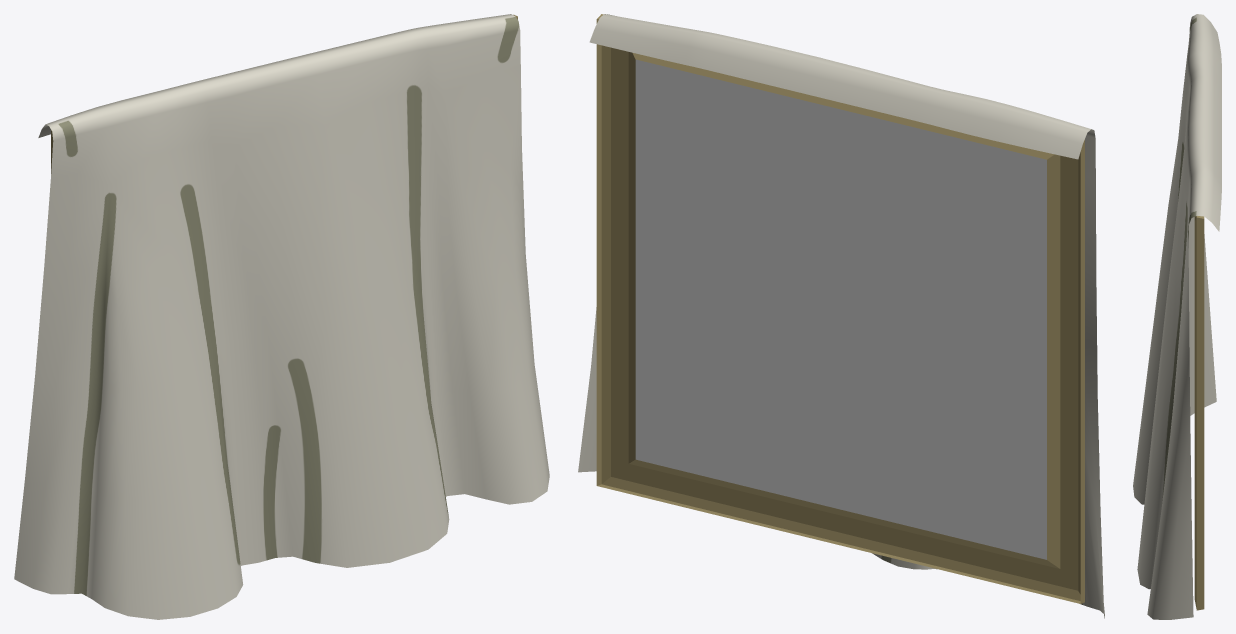
File: frame_achievement_covered.gltf
3 renders of one model, left to right at view 1: azimuth 30°, elevation 25°; view 2: azimuth 150°, elevation 25°; view 3: azimuth 270°, elevation 25°, orthographic. The views are drawn at different scales.
Visible parts, largest first — view 1: Plane.010; view 2: Plane.009, Plane.010; view 3: Plane.010, Plane.009.
Boxes of the visible parts, x1,y1,x2,y2 form: Plane.010: [14, 14, 549, 619]; Plane.009: [596, 14, 1084, 603]; Plane.010: [578, 14, 1104, 618]; Plane.010: [1133, 14, 1221, 619]; Plane.009: [1194, 216, 1204, 610].
Bounding box in the file's own units: 2.6 × 2.38 × 0.4445.
Materials: 3 (1 with a texture image).
